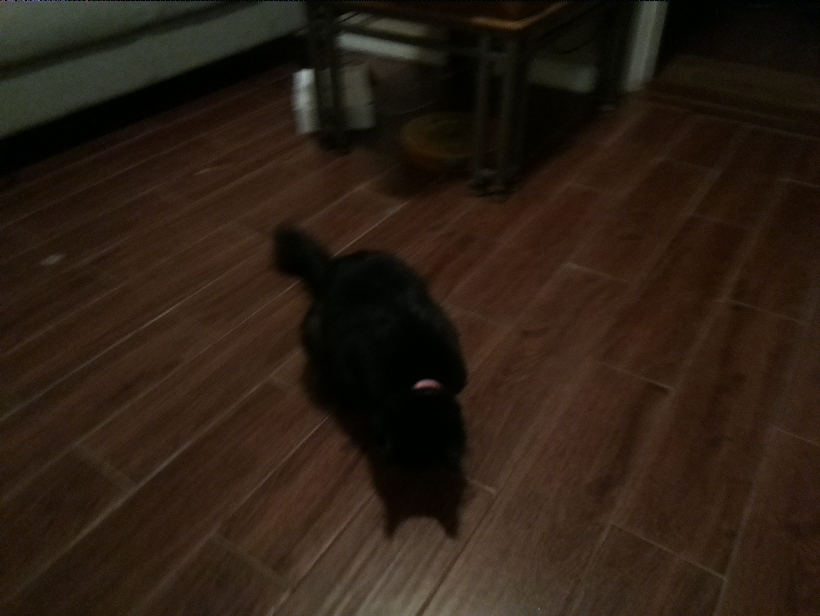cat: (267, 220, 479, 528)
